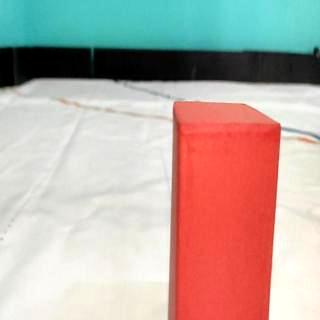redbox: (170, 97, 282, 320)
